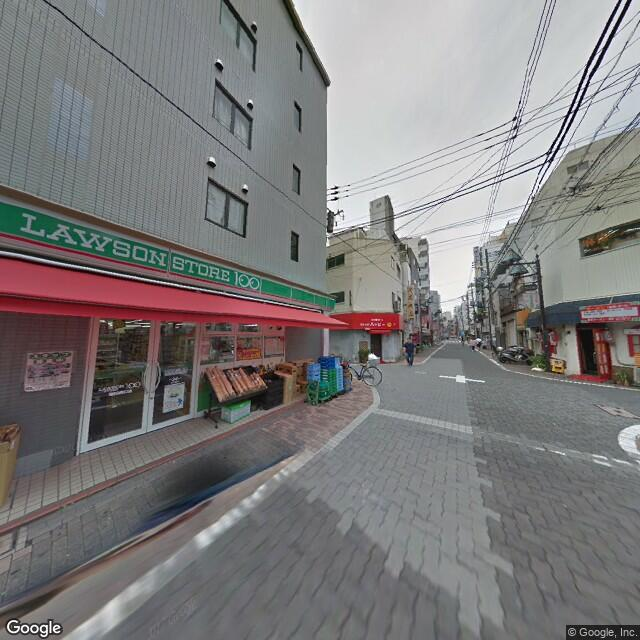lawson: (1, 196, 337, 314)
